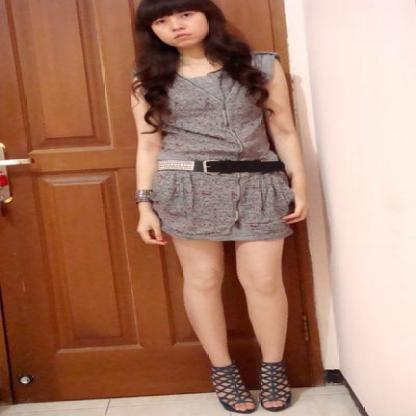dress: (138, 54, 300, 241)
shoe: (210, 355, 291, 413)
